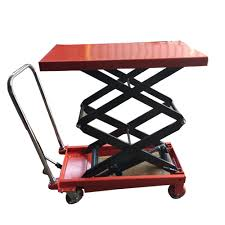Scissor Lift: (6, 40, 209, 205)
